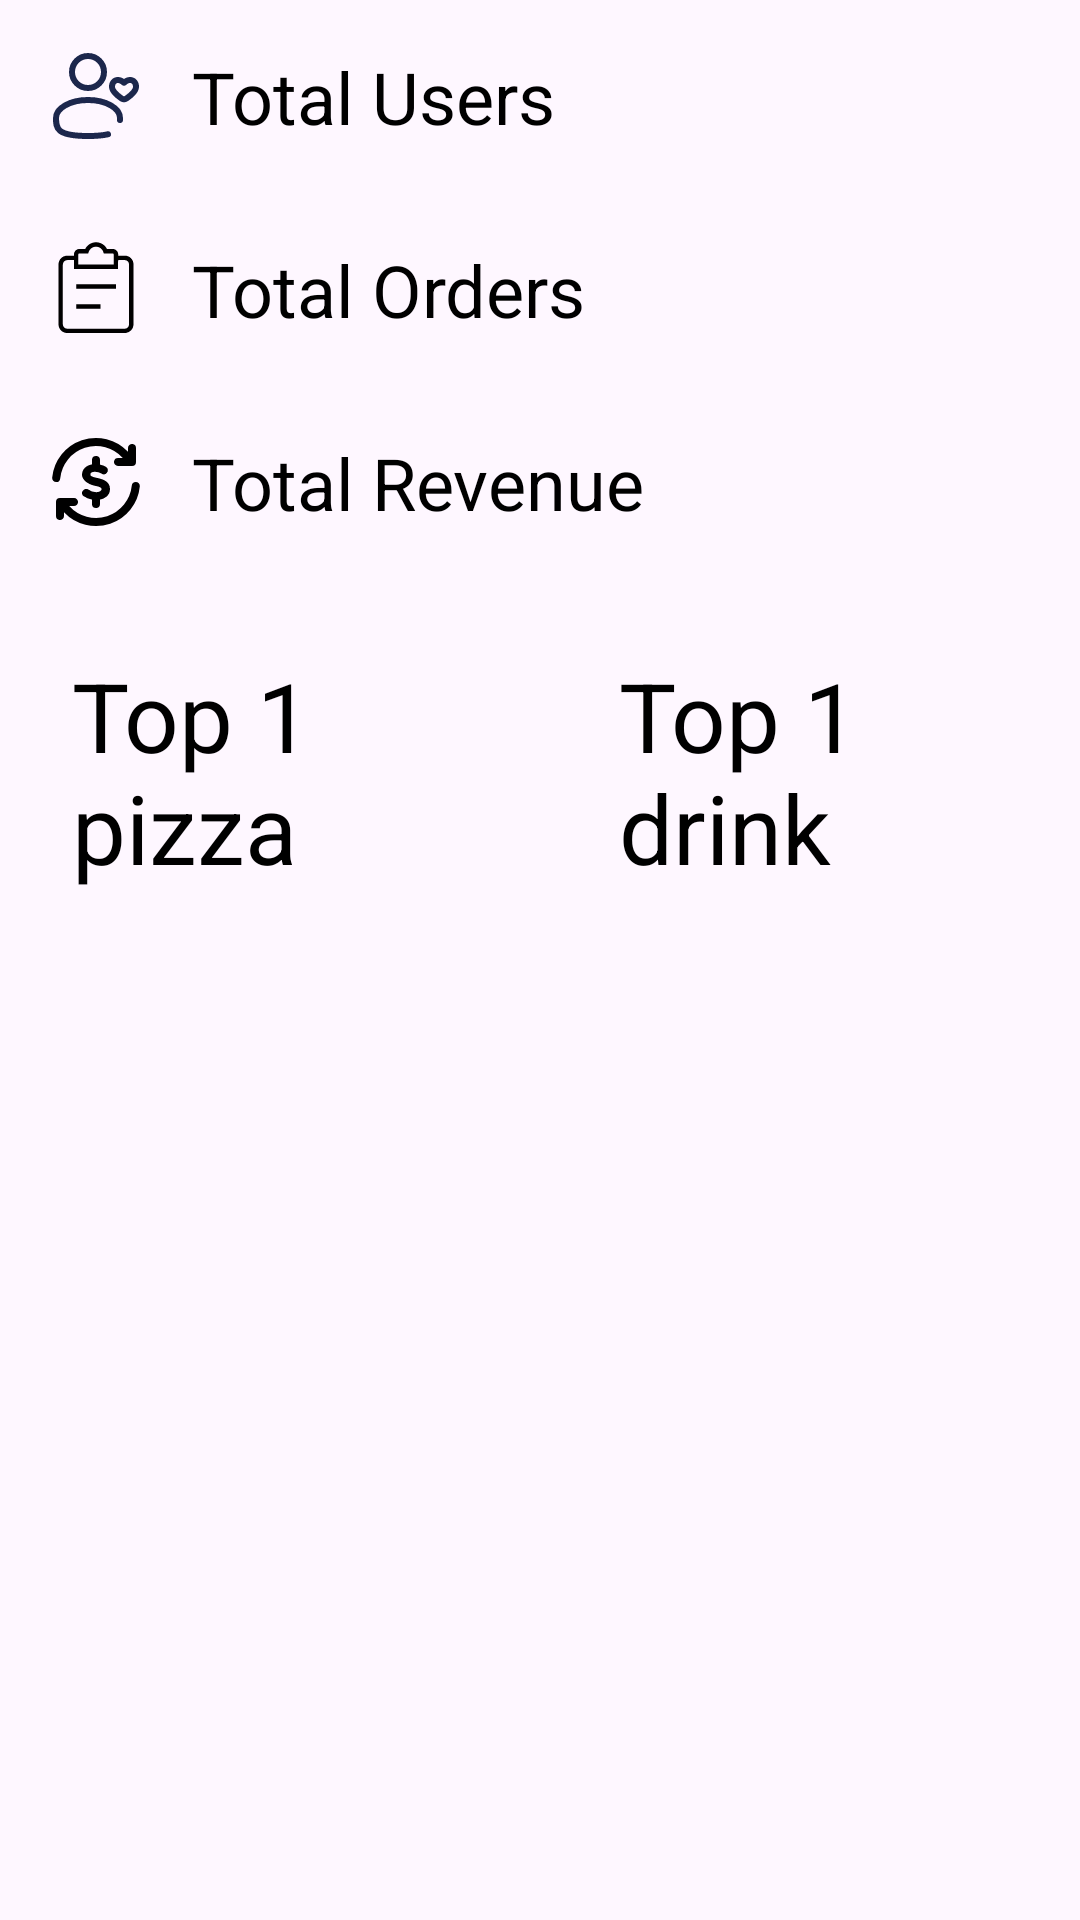

Where icons sit on this 1080x1920 app screen, as (x1, y1, x2, y2):
currency revenue: (52, 438, 140, 526)
user heart: (53, 53, 139, 139)
